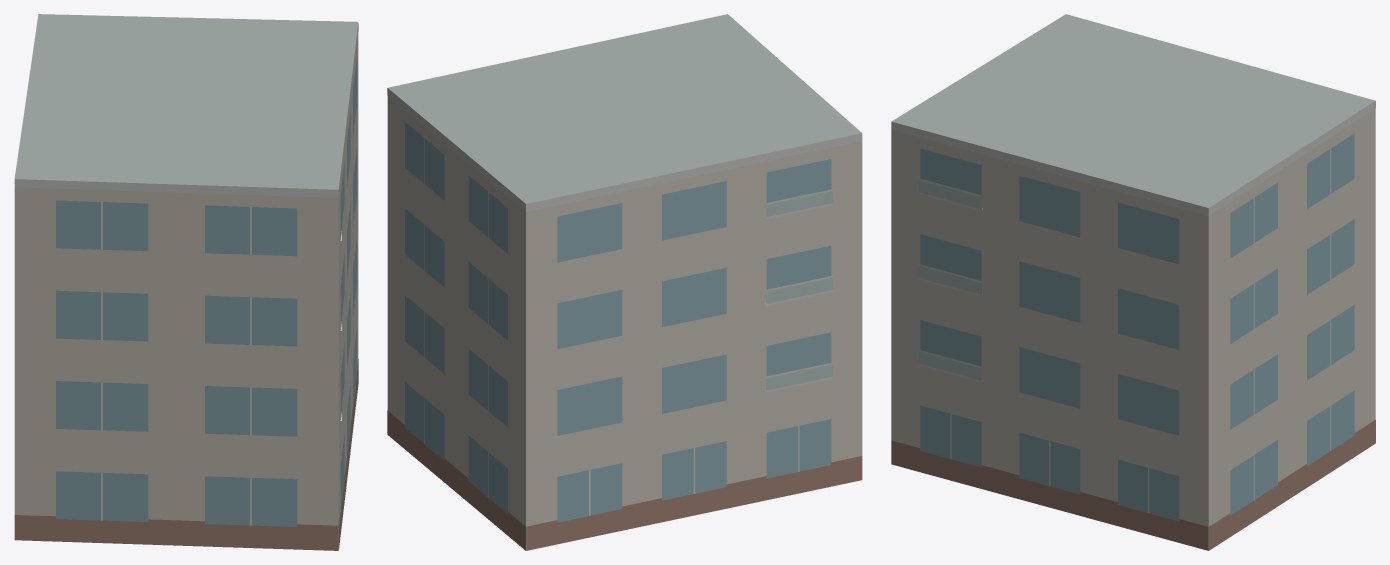
Rendered from survey-upis-32951810.glb.
3 views of the same model, side by side, from view 1: azimuth 30°, elevation 25°; view 2: azimuth 150°, elevation 25°; view 3: azimuth 270°, elevation 25° (orthographic). The views are drawn at different scales.
Visible parts, largest first — view 1: survey-upis-32951810.tmp; view 2: survey-upis-32951810.tmp; view 3: survey-upis-32951810.tmp.
Boxes of the visible parts, x1=… form: survey-upis-32951810.tmp: x1=14, y1=14, x2=358, y2=550; survey-upis-32951810.tmp: x1=387, y1=14, x2=862, y2=550; survey-upis-32951810.tmp: x1=891, y1=14, x2=1375, y2=550.
Size of the model in its own units: 12.95 by 10.65 by 13.65.
